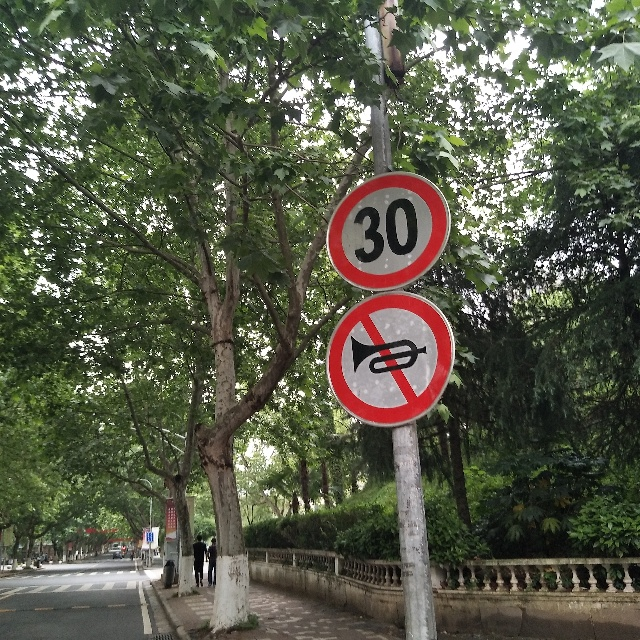nohonk: (345, 311, 440, 410)
